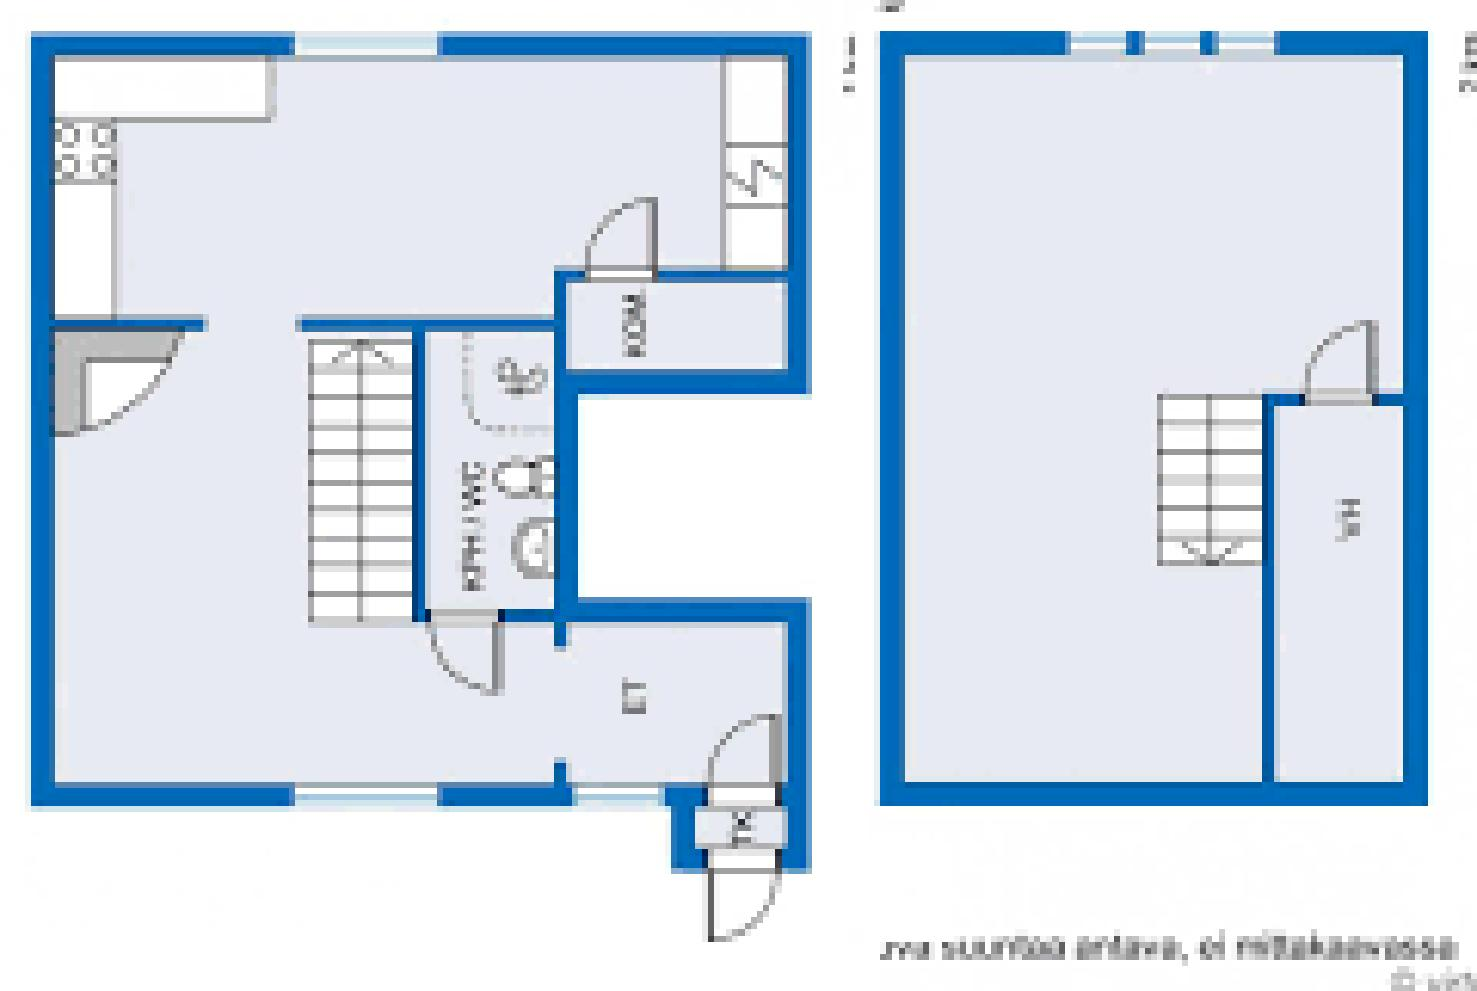door: (425, 609, 512, 714), (1291, 304, 1387, 396), (574, 192, 666, 286), (702, 852, 786, 940), (709, 712, 787, 785)
window: (284, 778, 446, 813), (289, 29, 450, 60), (567, 783, 661, 804), (1141, 30, 1204, 59), (1211, 35, 1279, 54), (1066, 36, 1133, 48)
zone: (908, 52, 1402, 786), (55, 330, 557, 779), (56, 58, 789, 316), (1280, 400, 1404, 792), (548, 620, 784, 784), (427, 337, 554, 608), (568, 286, 790, 367)
